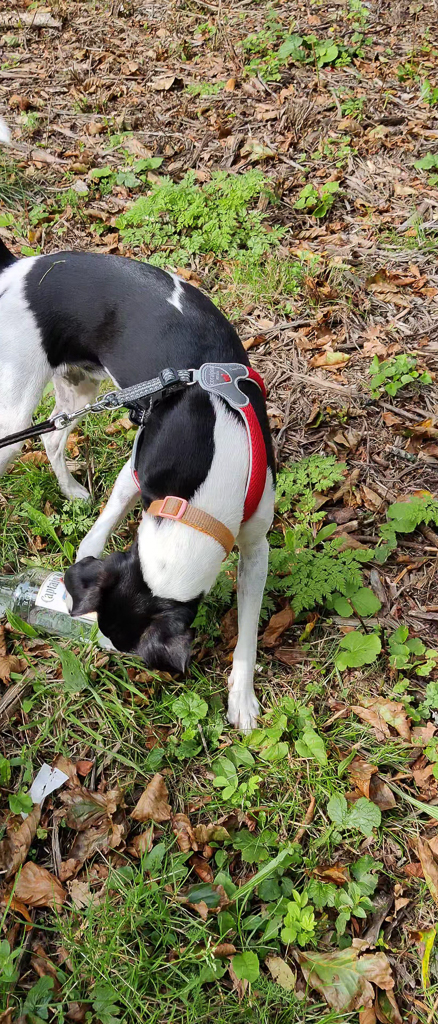Dog: (0, 208, 297, 748)
